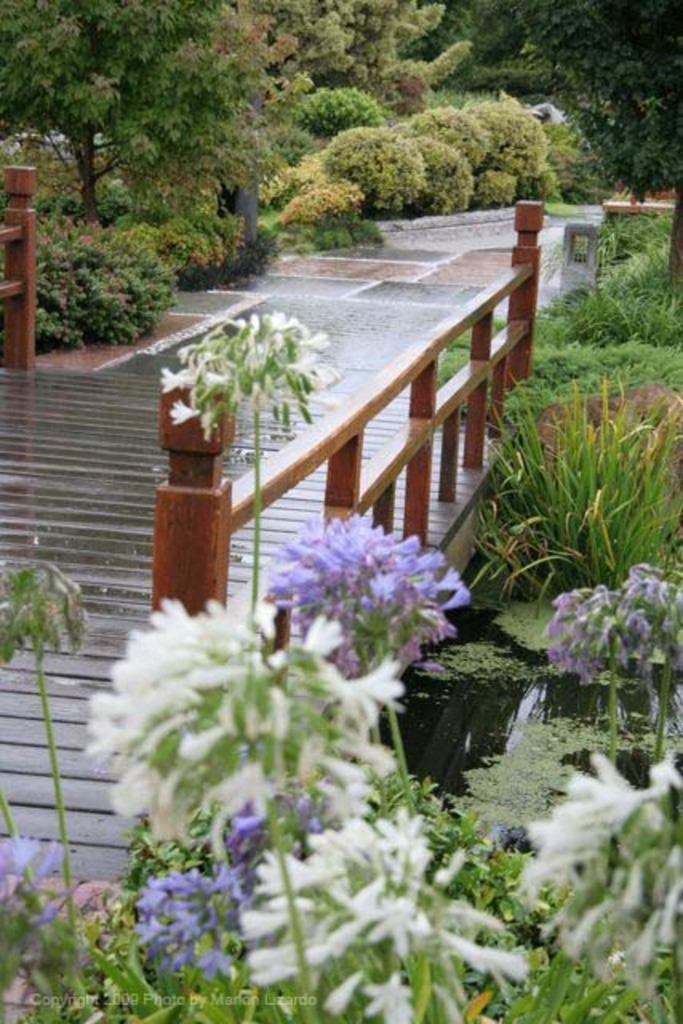Tree: (0, 0, 682, 287)
